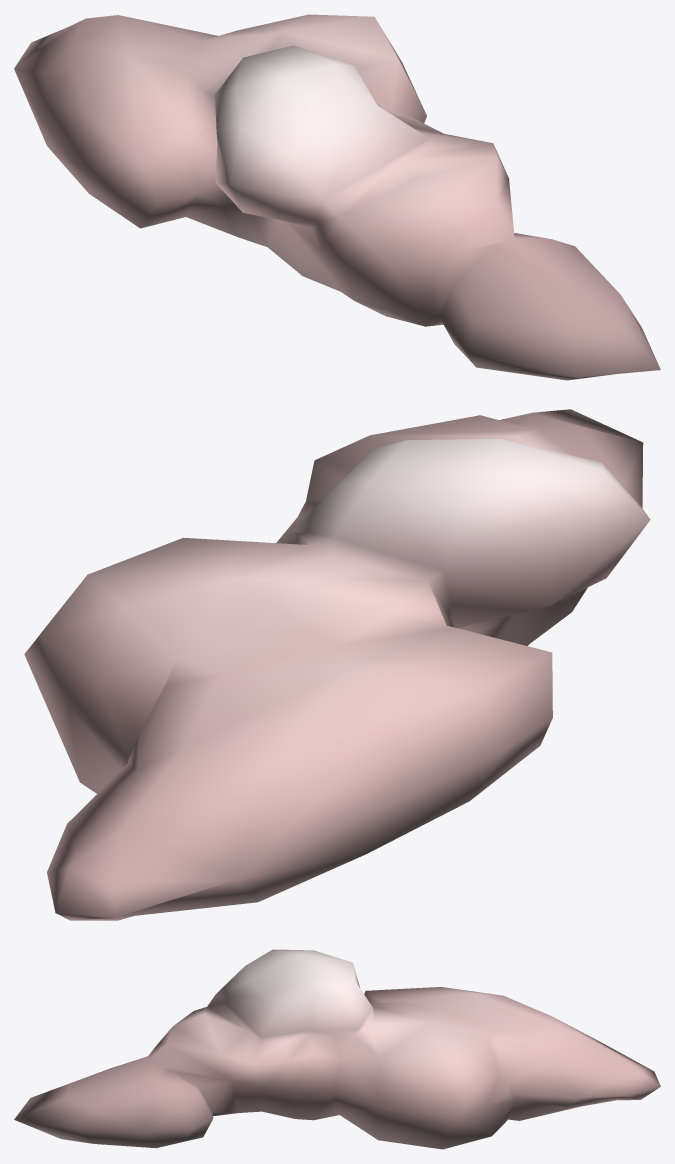
Rendered from Cloud_1A.fbx.
The picture shows the model from 3 angles, top to bottom: view 1: azimuth 30°, elevation 25°; view 2: azimuth 150°, elevation 25°; view 3: azimuth 270°, elevation 25°; orthographic projection. The views are drawn at different scales.
Visible parts, largest first — view 1: Cloud_1A; view 2: Cloud_1A; view 3: Cloud_1A.
Part boxes in pixels (<box>): Cloud_1A: <box>14,14,660,380</box>; Cloud_1A: <box>24,409,650,920</box>; Cloud_1A: <box>14,949,660,1149</box>.
Size of the model in its own units: 2970 by 1834 by 7318.
